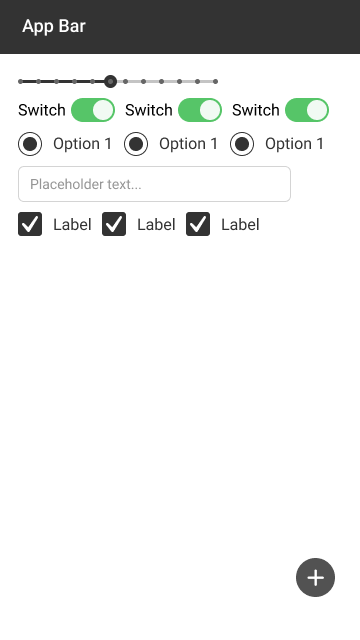checkBox: (16, 210, 95, 238), (100, 210, 179, 238), (184, 209, 263, 237)
editText: (16, 162, 293, 203)
floatingButton: (294, 556, 337, 600)
radioButton: (16, 129, 113, 156), (123, 129, 220, 156), (228, 130, 325, 157)
slider: (16, 71, 220, 89)
switch: (13, 97, 118, 123), (124, 96, 229, 122), (231, 96, 336, 122)
toolbar: (1, 1, 360, 54)
